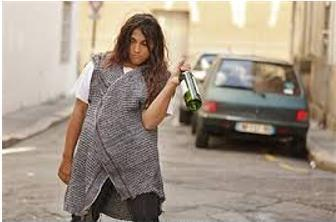Drunk: (129, 31, 149, 63)
